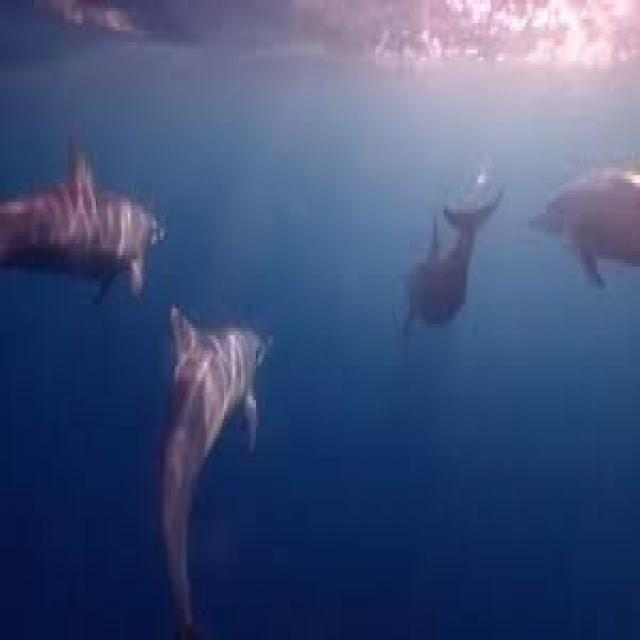dolphin: (137, 297, 276, 629), (0, 148, 166, 285)
